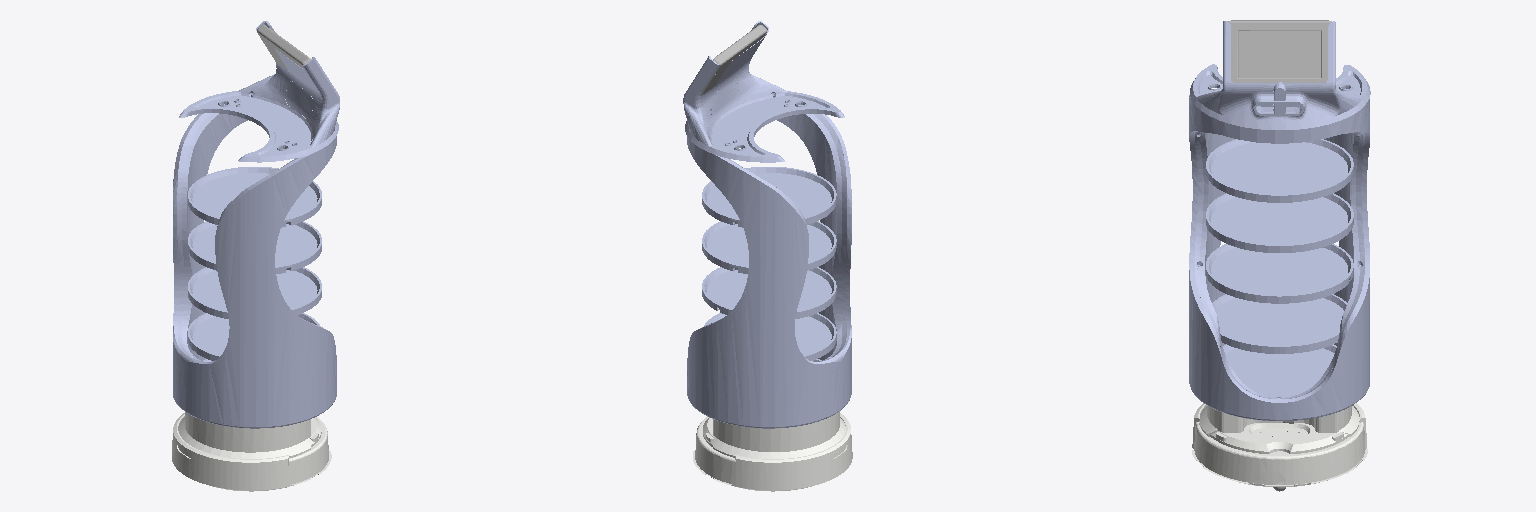
URDF robot description (s_description):
<?xml version="1.0" encoding="utf-8"?>
<!-- This URDF was automatically created by SolidWorks to URDF Exporter! Originally created by [author] ([email redacted]) 
     Commit Version: 1.6.0-4-g7f85cfe  Build Version: 1.6.7995.38578
     For more information, please see http://wiki.ros.org/sw_urdf_exporter -->
<robot
  name="s_description">
  <link
    name="base_link">
    <inertial>
      <origin
        xyz="0.0331268533143592 -0.000432916937407213 0.053571397442181"
        rpy="0 0 0" />
      <mass
        value="4.83639817381771" />
      <inertia
        ixx="0.038861655670592"
        ixy="0.000529616499918743"
        ixz="0.0010173959314691"
        iyy="0.0228312438973577"
        iyz="3.82831626454934E-05"
        izz="0.0575066455054651" />
    </inertial>
    <visual>
      <origin
        xyz="0 0 0"
        rpy="0 0 0" />
      <geometry>
        <mesh
          filename="package://s_description/meshes/base_link.STL" />
      </geometry>
      <material
        name="">
        <color
          rgba="0.964705882352941 0.964705882352941 0.952941176470588 1" />
      </material>
    </visual>
    <collision>
      <origin
        xyz="0 0 0"
        rpy="0 0 0" />
      <geometry>
        <mesh
          filename="package://s_description/meshes/base_link.STL" />
      </geometry>
    </collision>
  </link>
  <link
    name="right_link">
    <inertial>
      <origin
        xyz="-2.22044604925031E-16 3.88578058618805E-16 -3.88578058618805E-16"
        rpy="0 0 0" />
      <mass
        value="0.0610725611857856" />
      <inertia
        ixx="2.0932620346428E-05"
        ixy="3.39520287514895E-38"
        ixz="1.85730748238849E-38"
        iyy="2.0932620346428E-05"
        iyz="6.26429932491746E-21"
        izz="3.95750196483891E-05" />
    </inertial>
    <visual>
      <origin
        xyz="0 0 0"
        rpy="0 0 0" />
      <geometry>
        <mesh
          filename="package://s_description/meshes/right_link.STL" />
      </geometry>
      <material
        name="">
        <color
          rgba="0.749019607843137 0.749019607843137 0.749019607843137 1" />
      </material>
    </visual>
    <collision>
      <origin
        xyz="0 0 0"
        rpy="0 0 0" />
      <geometry>
        <mesh
          filename="package://s_description/meshes/right_link.STL" />
      </geometry>
    </collision>
  </link>
  <joint
    name="right_joint"
    type="continuous">
    <origin
      xyz="-0.00049683 -0.11755 0.02517"
      rpy="-1.5708 0 0" />
    <parent
      link="base_link" />
    <child
      link="right_link" />
    <axis
      xyz="0 0 1" />
  </joint>
  <link
    name="left_link">
    <inertial>
      <origin
        xyz="-4.44089209850063E-16 3.95516952522712E-16 4.9960036108132E-16"
        rpy="0 0 0" />
      <mass
        value="0.0610725611857854" />
      <inertia
        ixx="2.09326203464279E-05"
        ixy="4.13994203062489E-27"
        ixz="-2.29865717335984E-22"
        iyy="2.09326203464279E-05"
        iyz="-1.21249430195987E-20"
        izz="3.95750196483889E-05" />
    </inertial>
    <visual>
      <origin
        xyz="0 0 0"
        rpy="0 0 0" />
      <geometry>
        <mesh
          filename="package://s_description/meshes/left_link.STL" />
      </geometry>
      <material
        name="">
        <color
          rgba="0.749019607843137 0.749019607843137 0.749019607843137 1" />
      </material>
    </visual>
    <collision>
      <origin
        xyz="0 0 0"
        rpy="0 0 0" />
      <geometry>
        <mesh
          filename="package://s_description/meshes/left_link.STL" />
      </geometry>
    </collision>
  </link>
  <joint
    name="left_link"
    type="continuous">
    <origin
      xyz="-0.00049683 0.11755 0.02517"
      rpy="-1.5708 0 0" />
    <parent
      link="base_link" />
    <child
      link="left_link" />
    <axis
      xyz="0 0 1" />
  </joint>
  <link
    name="front_link">
    <inertial>
      <origin
        xyz="0 1.0842021724855E-19 0"
        rpy="0 0 0" />
      <mass
        value="0.012201049157502" />
      <inertia
        ixx="9.95396738164981E-07"
        ixy="4.75190822077712E-39"
        ixz="0"
        iyy="9.95396738164981E-07"
        iyz="3.04752357318865E-23"
        izz="9.95396738164981E-07" />
    </inertial>
    <visual>
      <origin
        xyz="0 0 0"
        rpy="0 0 0" />
      <geometry>
        <mesh
          filename="package://s_description/meshes/front_link.STL" />
      </geometry>
      <material
        name="">
        <color
          rgba="0.749019607843137 0.749019607843137 0.749019607843137 1" />
      </material>
    </visual>
    <collision>
      <origin
        xyz="0 0 0"
        rpy="0 0 0" />
      <geometry>
        <mesh
          filename="package://s_description/meshes/front_link.STL" />
      </geometry>
    </collision>
  </link>
  <joint
    name="front_joint"
    type="revolute">
    <origin
      xyz="0.126 0 0.002981"
      rpy="-1.5708 0 0" />
    <parent
      link="base_link" />
    <child
      link="front_link" />
    <axis
      xyz="1 1 1" />
    <limit
      lower="0"
      upper="0"
      effort="0"
      velocity="0" />
  </joint>
  <link
    name="back_link">
    <inertial>
      <origin
        xyz="1.11022302462516E-16 -6.93889390390723E-18 0"
        rpy="0 0 0" />
      <mass
        value="0.012201049157502" />
      <inertia
        ixx="9.95396738164982E-07"
        ixy="-1.32348898008484E-23"
        ixz="8.66927083731437E-38"
        iyy="9.95396738164982E-07"
        iyz="-4.80636454845762E-23"
        izz="9.95396738164982E-07" />
    </inertial>
    <visual>
      <origin
        xyz="0 0 0"
        rpy="0 0 0" />
      <geometry>
        <mesh
          filename="package://s_description/meshes/back_link.STL" />
      </geometry>
      <material
        name="">
        <color
          rgba="0.749019607843137 0.749019607843137 0.749019607843137 1" />
      </material>
    </visual>
    <collision>
      <origin
        xyz="0 0 0"
        rpy="0 0 0" />
      <geometry>
        <mesh
          filename="package://s_description/meshes/back_link.STL" />
      </geometry>
    </collision>
  </link>
  <joint
    name="back_joint"
    type="revolute">
    <origin
      xyz="-0.091903 0 0.0054852"
      rpy="-1.5708 0.077667 0" />
    <parent
      link="base_link" />
    <child
      link="back_link" />
    <axis
      xyz="1 1 1" />
    <limit
      lower="0"
      upper="0"
      effort="0"
      velocity="0" />
  </joint>
  <link
    name="laser_link">
    <inertial>
      <origin
        xyz="1.09809412383033E-05 -0.0112261274669363 -9.5016093440925E-05"
        rpy="0 0 0" />
      <mass
        value="0.0403779088326408" />
      <inertia
        ixx="7.61672430725859E-06"
        ixy="5.5982766499094E-09"
        ixz="9.92757538260664E-08"
        iyy="8.28485448822856E-06"
        iyz="-5.26078383460514E-08"
        izz="7.68868886195227E-06" />
    </inertial>
    <visual>
      <origin
        xyz="0 0 0"
        rpy="0 0 0" />
      <geometry>
        <mesh
          filename="package://s_description/meshes/laser_link.STL" />
      </geometry>
      <material
        name="">
        <color
          rgba="0.690196078431373 0.690196078431373 0.690196078431373 1" />
      </material>
    </visual>
    <collision>
      <origin
        xyz="0 0 0"
        rpy="0 0 0" />
      <geometry>
        <mesh
          filename="package://s_description/meshes/laser_link.STL" />
      </geometry>
    </collision>
  </link>
  <joint
    name="laser_joint"
    type="fixed">
    <origin
      xyz="0.1 0 0.1428"
      rpy="-1.5708 0 0" />
    <parent
      link="base_link" />
    <child
      link="laser_link" />
    <axis
      xyz="0 0 0" />
  </joint>
  <link
    name="camera_link">
    <inertial>
      <origin
        xyz="-0.0130485733276651 -6.02472496719075E-05 -0.000249057510941508"
        rpy="0 0 0" />
      <mass
        value="0.0447531965749265" />
      <inertia
        ixx="2.7274757978842E-05"
        ixy="-1.00813722652878E-09"
        ixz="-2.44896216734602E-07"
        iyy="2.73596827712831E-05"
        iyz="2.9246858833309E-09"
        izz="3.9443623957731E-06" />
    </inertial>
    <visual>
      <origin
        xyz="0 0 0"
        rpy="0 0 0" />
      <geometry>
        <mesh
          filename="package://s_description/meshes/camera_link.STL" />
      </geometry>
      <material
        name="">
        <color
          rgba="0.792156862745098 0.819607843137255 0.933333333333333 1" />
      </material>
    </visual>
    <collision>
      <origin
        xyz="0 0 0"
        rpy="0 0 0" />
      <geometry>
        <mesh
          filename="package://s_description/meshes/camera_link.STL" />
      </geometry>
    </collision>
  </link>
  <joint
    name="camera_joint"
    type="fixed">
    <origin
      xyz="0.161 0 0.80167"
      rpy="1.5708 0 0" />
    <parent
      link="base_link" />
    <child
      link="camera_link" />
    <axis
      xyz="0 0 0" />
  </joint>
  <link
    name="body_link">
    <inertial>
      <origin
        xyz="0.0196490463239979 -0.00759747258083848 -2.54312289516001E-06"
        rpy="0 0 0" />
      <mass
        value="5.3667835678089" />
      <inertia
        ixx="0.191852604126404"
        ixy="-0.00180652023375761"
        ixz="-5.31889404871528E-05"
        iyy="0.101149701389595"
        iyz="5.32146569402063E-05"
        izz="0.16932952422593" />
    </inertial>
    <visual>
      <origin
        xyz="0 0 0"
        rpy="0 0 0" />
      <geometry>
        <mesh
          filename="package://s_description/meshes/body_link.STL" />
      </geometry>
      <material
        name="">
        <color
          rgba="0.792156862745098 0.819607843137255 0.933333333333333 1" />
      </material>
    </visual>
    <collision>
      <origin
        xyz="0 0 0"
        rpy="0 0 0" />
      <geometry>
        <mesh
          filename="package://s_description/meshes/body_link.STL" />
      </geometry>
    </collision>
  </link>
  <joint
    name="body_joint"
    type="fixed">
    <origin
      xyz="-0.032907 0 0.38597"
      rpy="1.5708 0 0" />
    <parent
      link="base_link" />
    <child
      link="body_link" />
    <axis
      xyz="0 0 0" />
  </joint>
  <link
    name="head_link">
    <inertial>
      <origin
        xyz="0.00849493948773139 0.0238193372028268 0.000292060864239385"
        rpy="0 0 0" />
      <mass
        value="1.07076821324471" />
      <inertia
        ixx="0.00952954443079687"
        ixy="-0.000539065696028081"
        ixz="-2.03838854365254E-05"
        iyy="0.0107354116844579"
        iyz="-3.6921034585701E-06"
        izz="0.00438988033691154" />
    </inertial>
    <visual>
      <origin
        xyz="0 0 0"
        rpy="0 0 0" />
      <geometry>
        <mesh
          filename="package://s_description/meshes/head_link.STL" />
      </geometry>
      <material
        name="">
        <color
          rgba="0.792156862745098 0.819607843137255 0.933333333333333 1" />
      </material>
    </visual>
    <collision>
      <origin
        xyz="0 0 0"
        rpy="0 0 0" />
      <geometry>
        <mesh
          filename="package://s_description/meshes/head_link.STL" />
      </geometry>
    </collision>
  </link>
  <joint
    name="head_joint"
    type="fixed">
    <origin
      xyz="0.085023 8.857E-05 0.77053"
      rpy="1.5708 0 -0.012333" />
    <parent
      link="base_link" />
    <child
      link="head_link" />
    <axis
      xyz="0 0 0" />
  </joint>
  <link
    name="screen_link">
    <inertial>
      <origin
        xyz="-0.00875103860863291 -0.00179905099732303 -0.0013426830002895"
        rpy="0 0 0" />
      <mass
        value="0.291835845220698" />
      <inertia
        ixx="0.00153477162859971"
        ixy="0.000200454438260883"
        ixz="-5.38305946263596E-07"
        iyy="0.00130267458234358"
        iyz="-7.69451434566266E-07"
        izz="0.000469996563152285" />
    </inertial>
    <visual>
      <origin
        xyz="0 0 0"
        rpy="0 0 0" />
      <geometry>
        <mesh
          filename="package://s_description/meshes/screen_link.STL" />
      </geometry>
      <material
        name="">
        <color
          rgba="0.749019607843137 0.749019607843137 0.749019607843137 1" />
      </material>
    </visual>
    <collision>
      <origin
        xyz="0 0 0"
        rpy="0 0 0" />
      <geometry>
        <mesh
          filename="package://s_description/meshes/screen_link.STL" />
      </geometry>
    </collision>
  </link>
  <joint
    name="screen_joint"
    type="fixed">
    <origin
      xyz="0.10714 0 0.88899"
      rpy="1.5708 0 0" />
    <parent
      link="base_link" />
    <child
      link="screen_link" />
    <axis
      xyz="0 0 0" />
  </joint>
</robot>

--- Render facts (derived) ---
3 views of the same robot in one strip: view 1: azimuth 30°, elevation 25°; view 2: azimuth 150°, elevation 25°; view 3: azimuth 270°, elevation 25° (orthographic).
Model s_description with 10 links and 9 joints (2 revolute, 2 continuous, 5 fixed), rooted at base_link, posed all joints at 0.
Visible links, largest first — view 1: body_link, base_link, head_link, screen_link; view 2: body_link, base_link, head_link, screen_link; view 3: body_link, base_link, head_link, screen_link.
Link boxes in pixels (x1,y1,x2,y2): body_link: (173, 104, 336, 428); base_link: (172, 412, 331, 491); head_link: (179, 21, 339, 162); screen_link: (257, 25, 311, 69); body_link: (687, 105, 851, 428); base_link: (693, 411, 852, 491); head_link: (683, 21, 844, 162); screen_link: (701, 25, 767, 95); body_link: (1189, 95, 1369, 420); base_link: (1192, 403, 1367, 486); head_link: (1190, 21, 1370, 129); screen_link: (1228, 20, 1331, 82).
Size in the robot's own frame: 0.3495 by 0.3427 by 0.9596 metres.
10 mesh visuals loaded from 10 distinct referenced files (10 binary STL).